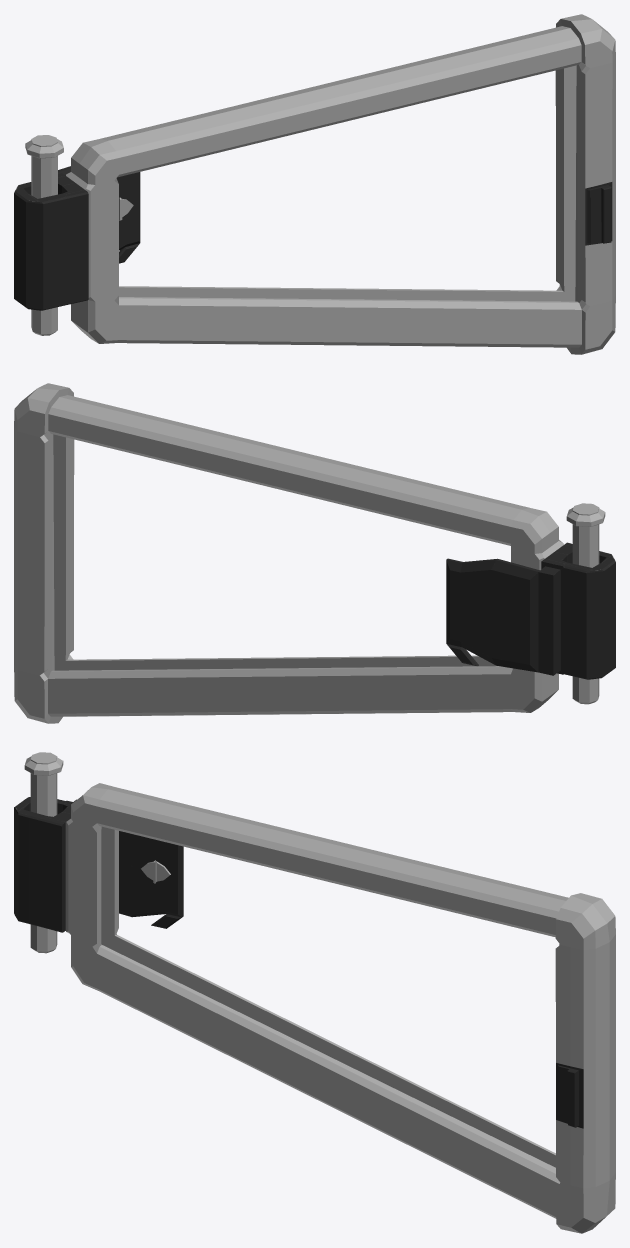
File: ButtOfTheWeaponSkeletal.fbx
The picture shows the model from 3 angles, top to bottom: view 1: azimuth 30°, elevation 25°; view 2: azimuth 150°, elevation 25°; view 3: azimuth 330°, elevation 25°; orthographic projection.
Visible parts, largest first — view 1: ButtOfTheWeaponSkeletal, Bolt; view 2: ButtOfTheWeaponSkeletal, Bolt; view 3: ButtOfTheWeaponSkeletal, Bolt.
Part boxes in pixels (left/top/right/bottom): ButtOfTheWeaponSkeletal: left=14, top=14, right=615, bottom=354; Bolt: left=25, top=135, right=63, bottom=335; ButtOfTheWeaponSkeletal: left=14, top=383, right=615, bottom=723; Bolt: left=566, top=503, right=605, bottom=704; ButtOfTheWeaponSkeletal: left=14, top=783, right=615, bottom=1233; Bolt: left=24, top=752, right=63, bottom=953.
Size of the model in its own units: 56.01 by 31.1 by 7.02.
Materials: 1 (1 with a texture image).
